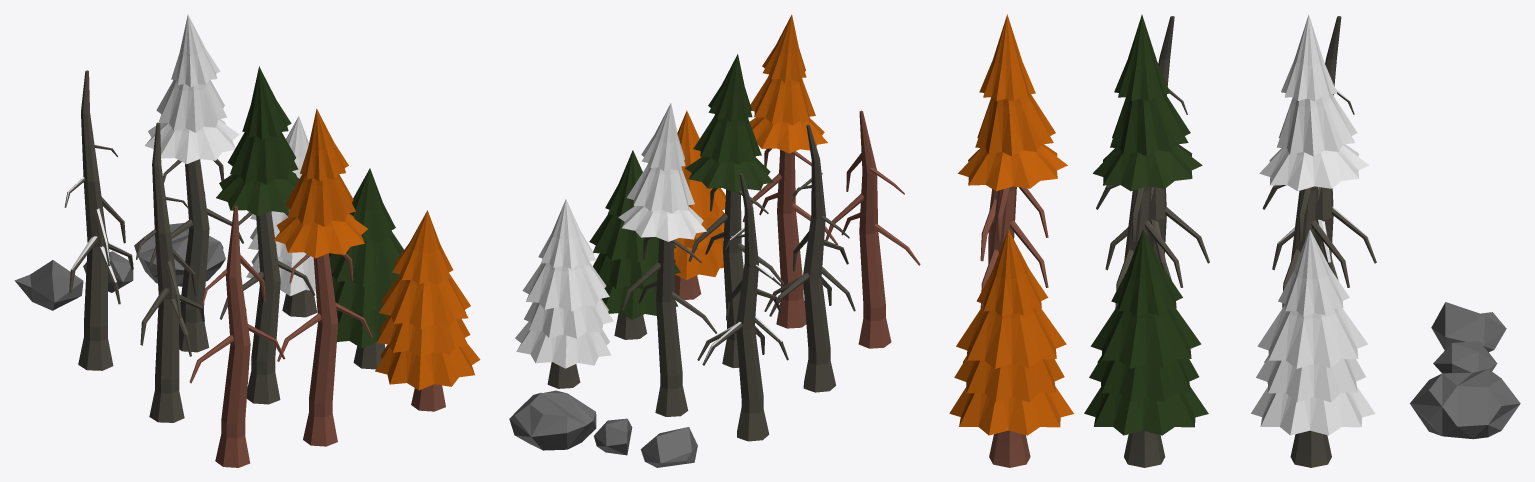
File: Lowpoly_tree_pack.fbx
3 views of the same model, side by side, from view 1: azimuth 30°, elevation 25°; view 2: azimuth 150°, elevation 25°; view 3: azimuth 270°, elevation 25° (orthographic). The views are drawn at different scales.
Visible parts, largest first — view 1: pCylinder59, pCone29, polySurface41, pCylinder58, pCone10, polySurface14, polySurface55, polySurface67, polySurface50, pSphere7, pSphere5, pSphere6; view 2: polySurface41, polySurface50, pCylinder59, pCylinder58, pCone10, polySurface55, polySurface14, polySurface67, pCone29, pSphere5, pSphere7, pSphere6; view 3: pCone29, pCone10, polySurface50, pCylinder59, pCylinder58, polySurface41, pSphere5, polySurface14, polySurface55, pSphere7, pSphere6, polySurface67.
Boxes of the visible parts, x1,y1,x2,y2 form: pCylinder59: (273,109,372,446); pCone29: (375,210,480,411); polySurface41: (145,14,243,352); pCylinder58: (216,66,315,404); pCone10: (329,168,403,369); polySurface14: (136,122,204,422); polySurface55: (64,70,133,370); polySurface67: (189,206,285,467); polySurface50: (246,116,317,317); pSphere7: (14,260,83,310); pSphere5: (134,223,225,286); pSphere6: (83,251,133,292); polySurface41: (618,103,717,416); polySurface50: (515,199,613,388); pCylinder59: (742,14,838,328); pCylinder58: (685,54,783,368); pCone10: (589,150,680,339); polySurface55: (697,173,788,441); polySurface14: (764,124,855,392); polySurface67: (841,110,920,348); pCone29: (674,110,725,299); pSphere5: (509,390,596,450); pSphere7: (640,427,697,467); pSphere6: (594,418,632,455); pCone29: (949,229,1073,467); pCone10: (1084,229,1208,467); polySurface50: (1251,229,1375,467); pCylinder59: (958,14,1067,308); pCylinder58: (1093,14,1202,308); polySurface41: (1259,14,1369,307); pSphere5: (1410,369,1520,439); polySurface14: (1096,16,1209,280); polySurface55: (1262,16,1376,280); pSphere7: (1431,302,1506,351); pSphere6: (1433,341,1497,373); polySurface67: (980,189,997,263).
Size of the model in its own units: 17.23 by 18.76 by 25.15.
